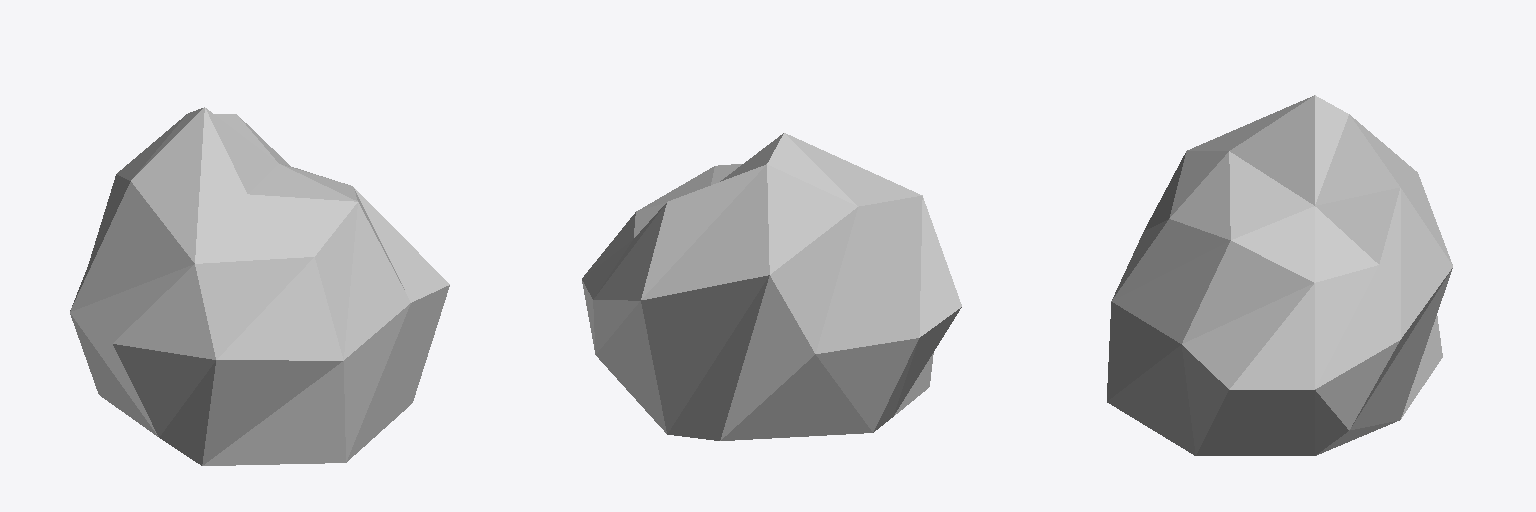
The model's file is rock.obj.
3 renders of one model, left to right at view 1: azimuth 30°, elevation 25°; view 2: azimuth 150°, elevation 25°; view 3: azimuth 270°, elevation 25°, orthographic.
Visible parts, largest first — view 1: rock; view 2: rock; view 3: rock.
Boxes of the visible parts, x1,y1,x2,y2 form: rock: [70, 107, 449, 465]; rock: [582, 133, 961, 440]; rock: [1107, 95, 1452, 455].
Size of the model in its own units: 1.52 by 1.24 by 1.35.